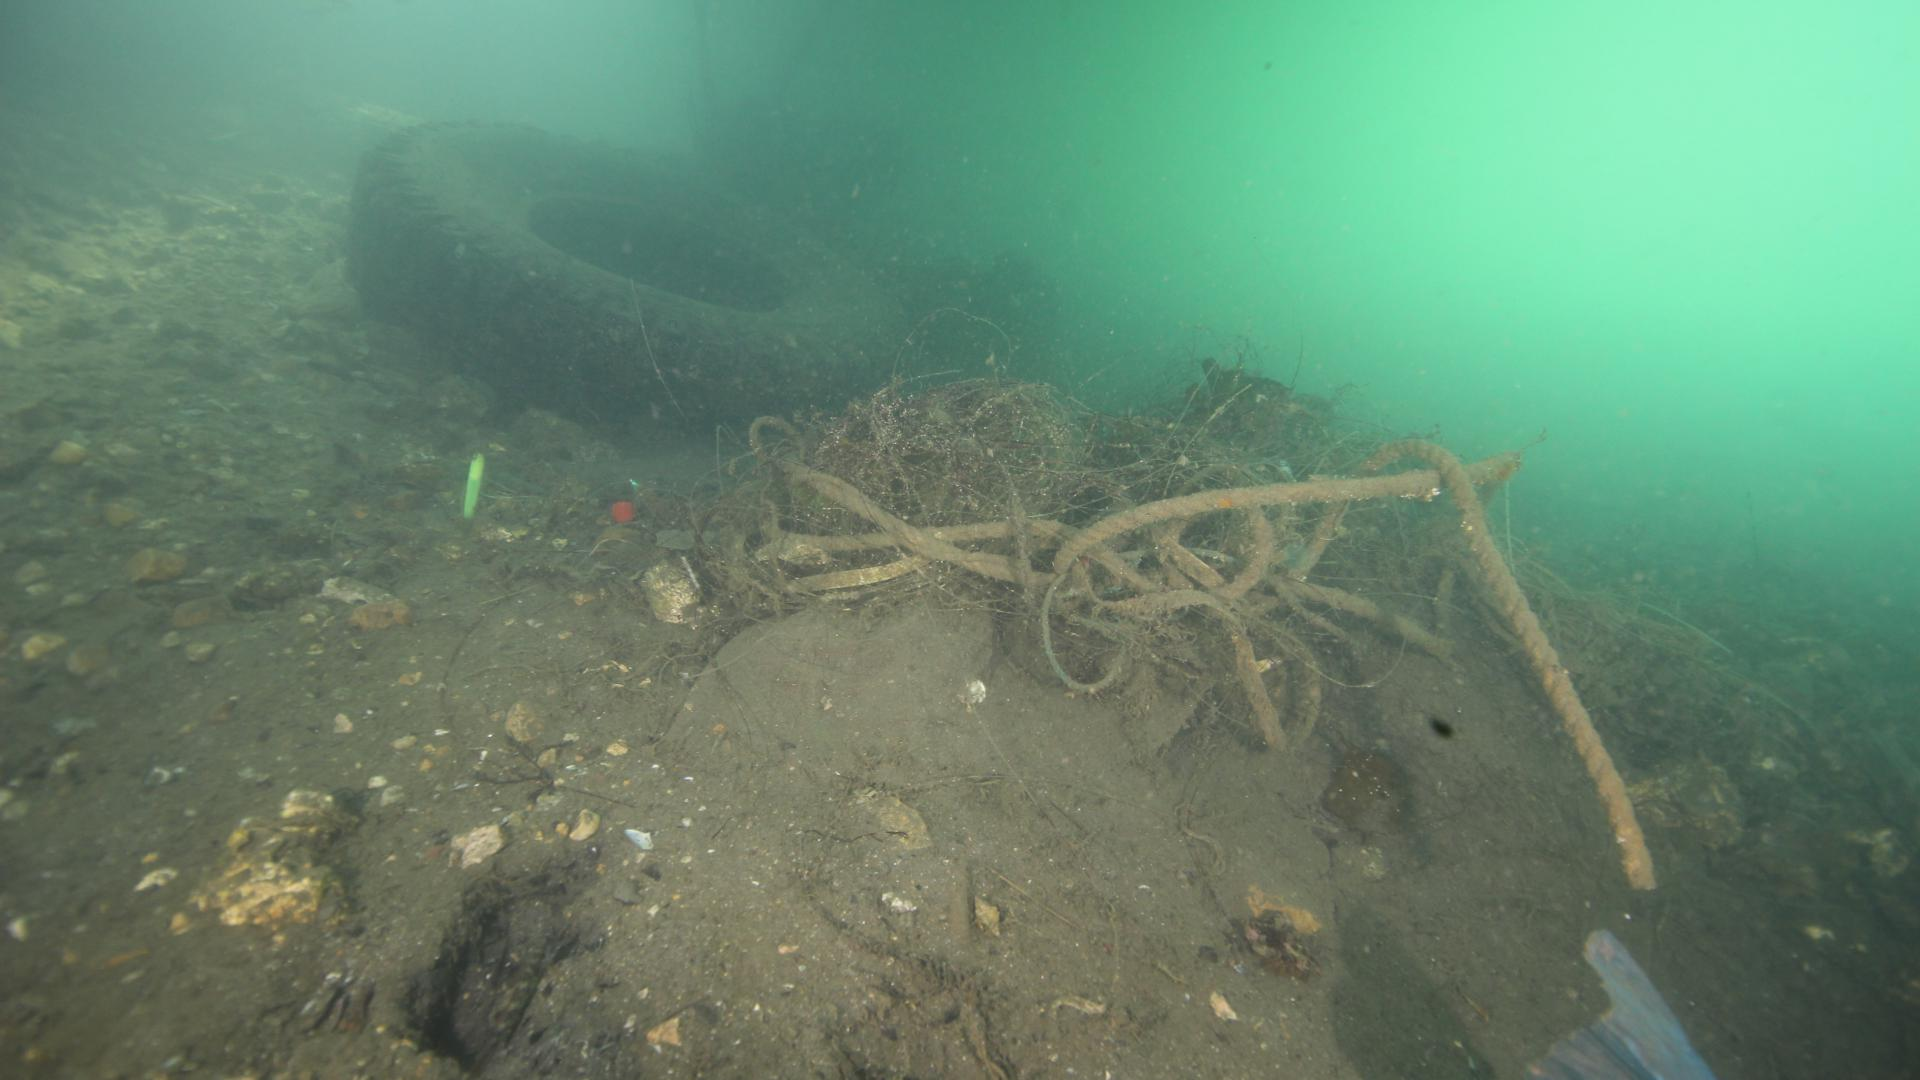bundle of ropes: (715, 411, 1668, 894)
tire: (344, 112, 926, 450)
